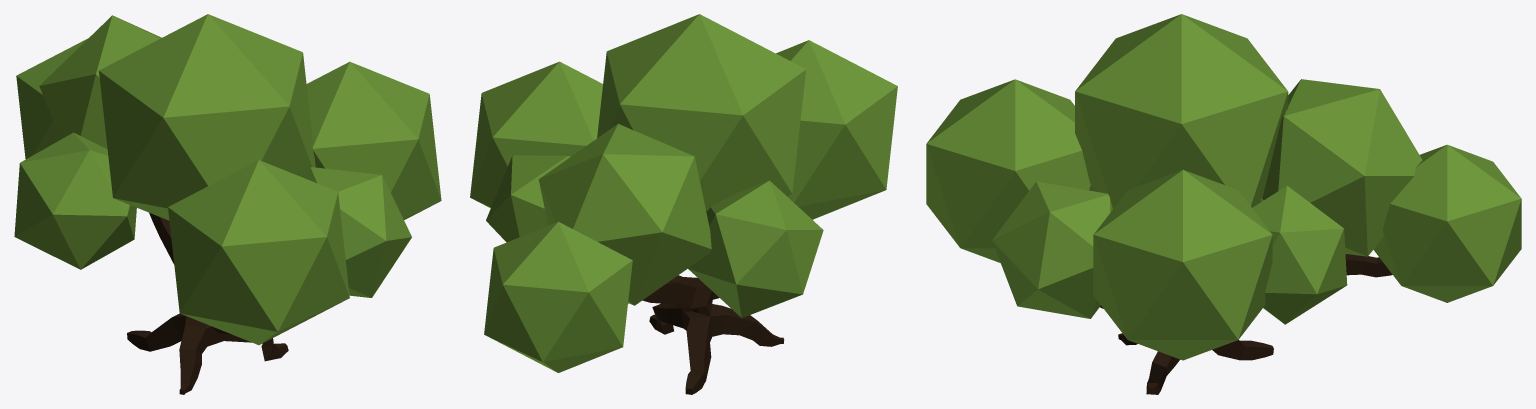
Rendered from grass.fbx.
3 views of the same model, side by side, from view 1: azimuth 30°, elevation 25°; view 2: azimuth 150°, elevation 25°; view 3: azimuth 270°, elevation 25° (orthographic). The views are drawn at different scales.
Visible parts, largest first — view 1: Icosphere, Plane; view 2: Icosphere, Plane; view 3: Icosphere, Plane.
Boxes of the visible parts, x1,y1,x2,y2 form: Icosphere: (14,14,441,345); Plane: (127,212,288,394); Icosphere: (470,14,897,372); Plane: (628,275,784,394); Icosphere: (926,14,1521,360); Plane: (1100,254,1392,394).
Size of the model in its own units: 137 by 123 by 185.
1 material, 1 textured.
